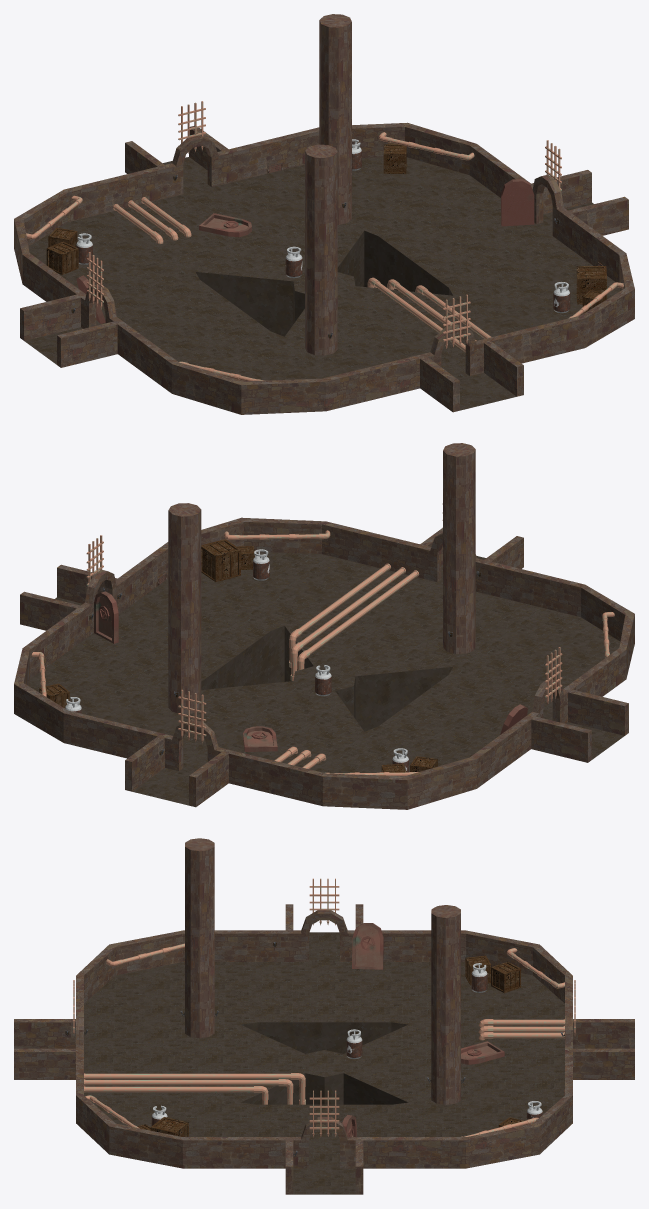
File: room_base_X_pipes_40x40.glb
The picture shows the model from 3 angles, top to bottom: view 1: azimuth 30°, elevation 25°; view 2: azimuth 150°, elevation 25°; view 3: azimuth 270°, elevation 25°; orthographic projection. The views are drawn at different scales.
Parts seen in each view (by area): view 1: floor, Plane.001, hole, Cylinder.027, Cylinder.026, gate.002, Plane.003_cell, Cylinder.010, gate.004, gate.001; view 2: floor, Plane.001, hole, Cylinder.026, Cylinder.027, Cylinder.011, Cylinder.010, Cylinder.012, gate.001, gate.004, Cube.001_cell.003, Cylinder.001; view 3: floor, Plane.001, hole, Cylinder.027, Cylinder.026, Cylinder.010, Cylinder.011, Cylinder.012, gate.003, Plane.004_cell.003, Cylinder.007, Cylinder.005 (+2 smaller).
Part boxes in pixels (bbox=[...]): floor: bbox=[24, 157, 620, 410]; Plane.001: bbox=[14, 122, 634, 414]; hole: bbox=[196, 230, 452, 336]; Cylinder.027: bbox=[305, 144, 337, 355]; Cylinder.026: bbox=[319, 14, 351, 224]; gate.002: bbox=[443, 294, 470, 348]; Plane.003_cell: bbox=[501, 200, 534, 226]; Cylinder.010: bbox=[367, 277, 465, 352]; gate.004: bbox=[87, 252, 103, 309]; gate.001: bbox=[178, 101, 205, 153]; floor: bbox=[28, 552, 624, 805]; Plane.001: bbox=[14, 517, 634, 809]; hole: bbox=[201, 625, 452, 731]; Cylinder.026: bbox=[168, 503, 201, 713]; Cylinder.027: bbox=[443, 443, 475, 653]; Cylinder.011: bbox=[290, 567, 405, 680]; Cylinder.010: bbox=[297, 570, 419, 670]; Cylinder.012: bbox=[289, 563, 390, 667]; gate.001: bbox=[178, 689, 206, 743]; gate.004: bbox=[545, 647, 562, 704]; Cube.001_cell.003: bbox=[201, 546, 240, 570]; Cylinder.001: bbox=[224, 530, 330, 539]; floor: bbox=[84, 932, 564, 1194]; Plane.001: bbox=[14, 904, 634, 1194]; hole: bbox=[241, 1022, 408, 1104]; Cylinder.027: bbox=[185, 838, 214, 1038]; Cylinder.026: bbox=[431, 905, 460, 1104]; Cylinder.010: bbox=[84, 1073, 305, 1104]; Cylinder.011: bbox=[84, 1079, 293, 1104]; Cylinder.012: bbox=[84, 1086, 268, 1104]; gate.003: bbox=[309, 1090, 339, 1137]; Plane.004_cell.003: bbox=[352, 933, 374, 969]; Cylinder.007: bbox=[478, 1019, 564, 1027]; Cylinder.005: bbox=[478, 1032, 564, 1040].
Size of the model in its own units: 40 by 17.79 by 40.
10 materials, 10 textured.
